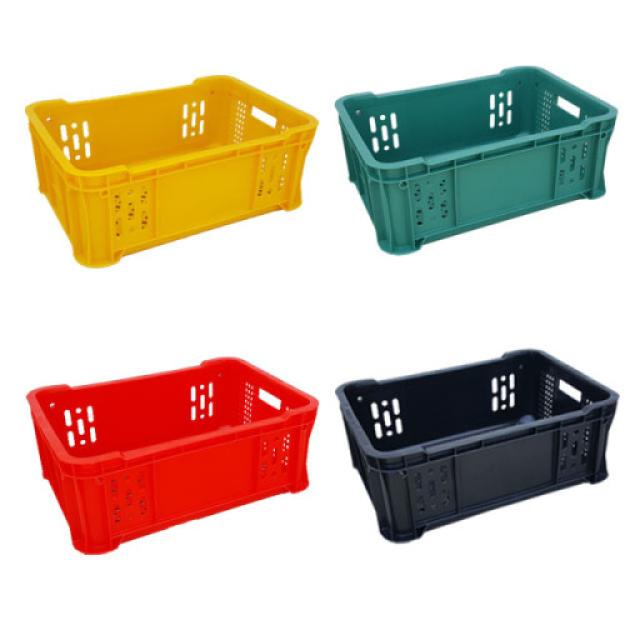basket: (17, 311, 342, 564), (16, 31, 340, 277)
